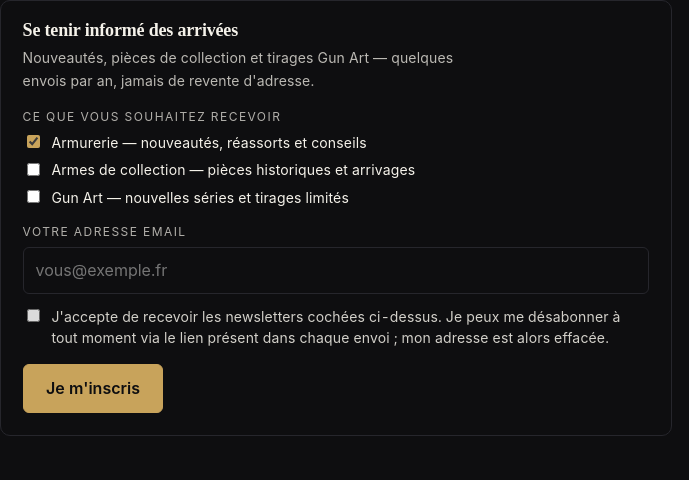
Scenario: NewsletterSignup › keeps the form usable and says so when the API fails
This screenshot has width=689, height=480.
Type "client@example.test" into the field labelled "Votre adresse email" at (336, 271), box [23,247,649,294]
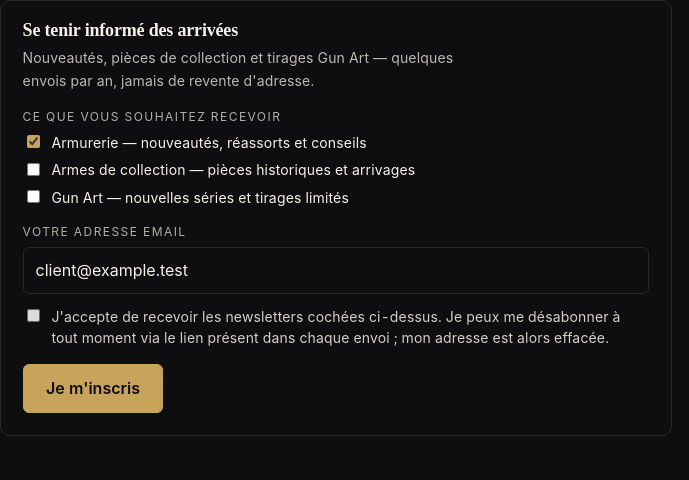
Click the 4th checkbox at (33, 315), box [27,309,40,322]
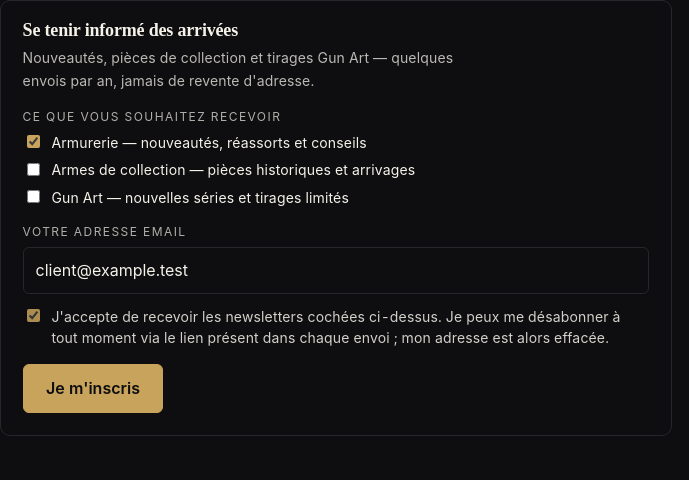
Submit the form
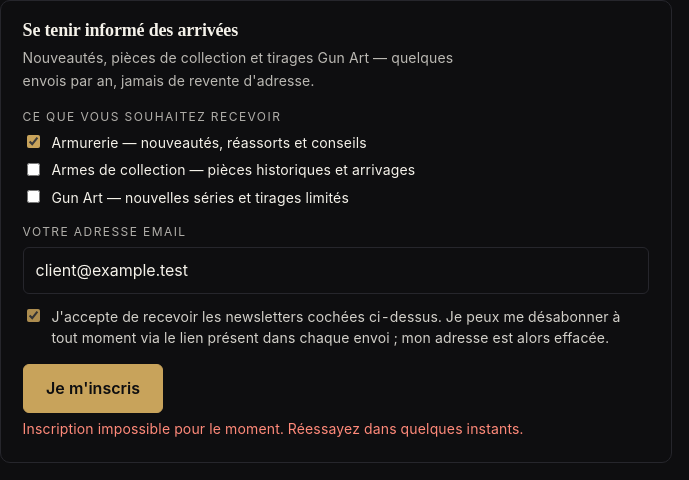
Now the text "Inscription impossible" is shown, box [23,420,524,437]
